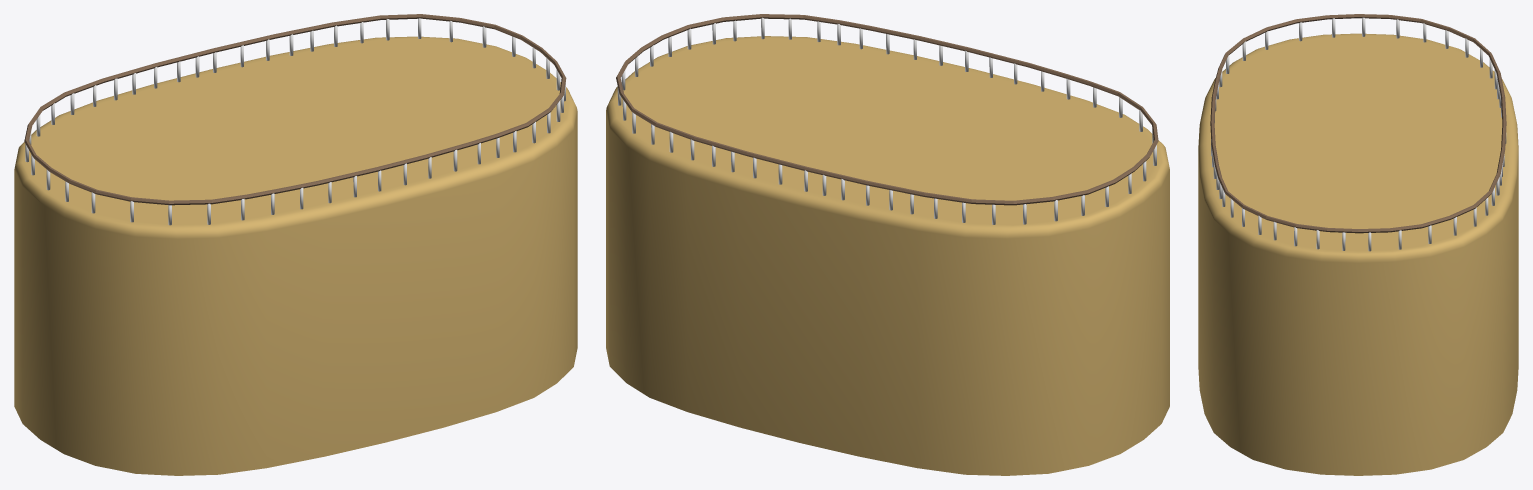
The model's file is Map_01_Field.fbx.
3 renders of one model, left to right at view 1: azimuth 30°, elevation 25°; view 2: azimuth 150°, elevation 25°; view 3: azimuth 270°, elevation 25°, orthographic. The views are drawn at different scales.
Parts seen in each view (by area): view 1: Map_Land_01_Field, Map_Land_01_Field_1, Map_Land_01_Field_2; view 2: Map_Land_01_Field, Map_Land_01_Field_1, Map_Land_01_Field_2; view 3: Map_Land_01_Field, Map_Land_01_Field_2, Map_Land_01_Field_1.
Part boxes in pixels (x1,y1,x2,y2): Map_Land_01_Field: (14,14,577,475); Map_Land_01_Field_1: (278,142,472,209); Map_Land_01_Field_2: (471,92,563,164); Map_Land_01_Field: (606,17,1169,475); Map_Land_01_Field_1: (869,26,1063,91); Map_Land_01_Field_2: (723,14,869,49); Map_Land_01_Field: (1198,14,1518,475); Map_Land_01_Field_2: (1215,164,1267,234); Map_Land_01_Field_1: (1210,79,1218,178).
Size of the model in its own units: 62.7 by 31.56 by 37.9.
